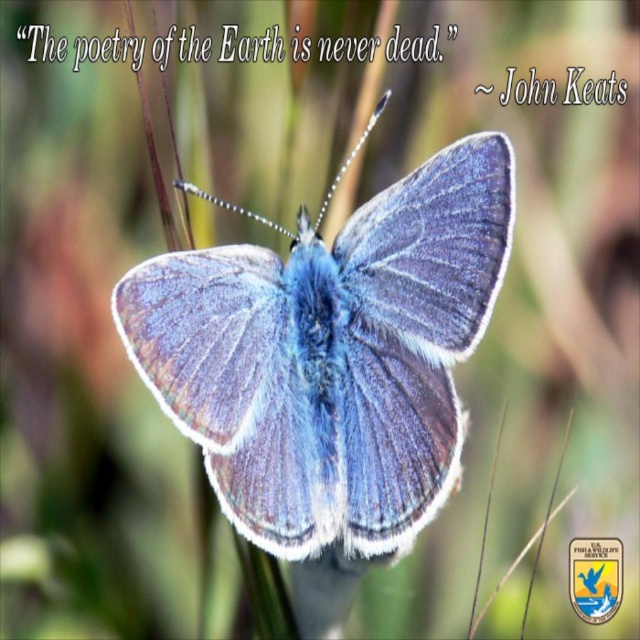Butterfly: (116, 80, 491, 579)
